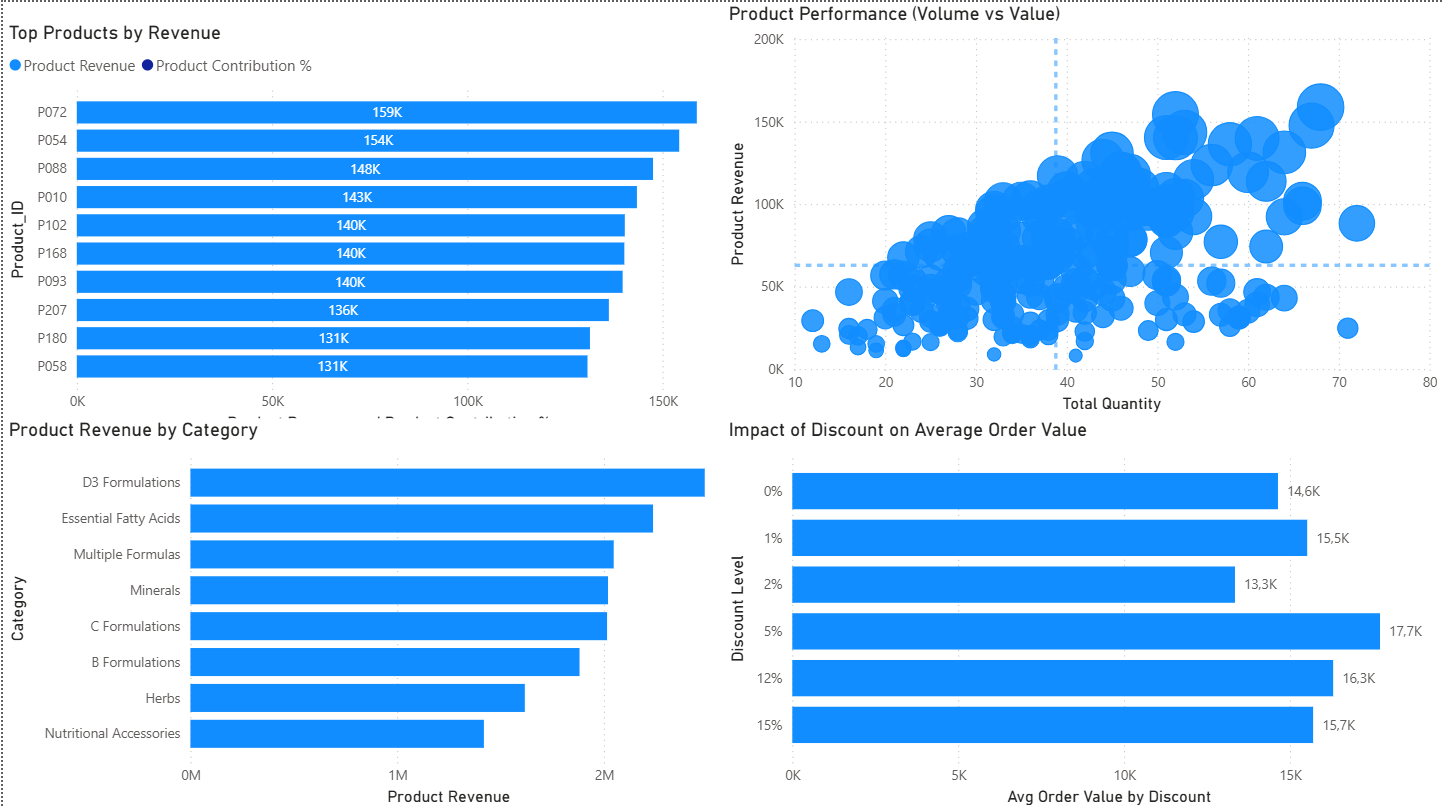

The page's visual inventory and layout, read from the dashboard file:
{"tool":"powerbi","page":{"name":"Page 3 - Product Analysis","canvas":[1280,720],"ordinal":2},"visuals":[{"type":"barChart","title":"Top Products by Revenue","fields":{"Category":["sales.Product_ID"],"Y":["sales.Product Revenue","sales.Product Contribution %"]},"box":[0,16.5,640.2,370.3],"z":0},{"type":"barChart","fields":{"Category":["sales.Category"],"Y":["sales.Product Revenue"]},"box":[0,370.3,640.2,349.3],"z":1},{"type":"scatterChart","title":"Product Performance (Volume vs Value)","fields":{"X":["sales.Total Quantity"],"Y":["sales.Product Revenue"],"Size":["sales.Product Revenue"],"Category":["sales.Product_ID"]},"box":[640.2,0,640.2,370.3],"z":2},{"type":"barChart","title":"Impact of Discount on Average Order Value","fields":{"Y":["sales.Avg Order Value by Discount"],"Category":["sales.Discount Level"]},"box":[640.2,370.3,640.2,349.3],"z":5}]}

Visuals, with their boxes in screenshot pixels (x1, y1, x2, y2), scaled from the page's 1280x720 canvas onto the 1443x807 screenshot:
"Top Products by Revenue" barChart: pyautogui.locateOnScreen(0, 18, 722, 434)
barChart - sales.Category x sales.Product Revenue: pyautogui.locateOnScreen(0, 415, 722, 806)
"Product Performance (Volume vs Value)" scatterChart: pyautogui.locateOnScreen(722, 0, 1442, 415)
"Impact of Discount on Average Order Value" barChart: pyautogui.locateOnScreen(722, 415, 1442, 806)
